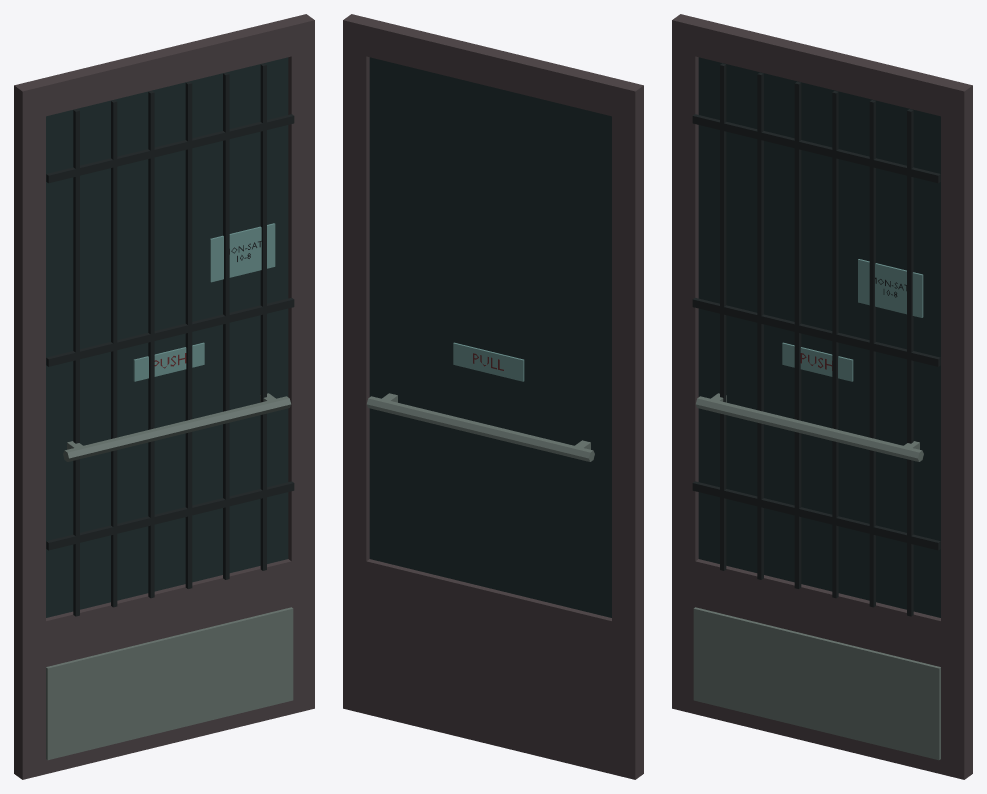
Rendered from usa_amanet.glb.
3 renders of one model, left to right at view 1: azimuth 30°, elevation 25°; view 2: azimuth 150°, elevation 25°; view 3: azimuth 330°, elevation 25°, orthographic.
Visible parts, largest first — view 1: Usa, GeamUsa; view 2: GeamUsa, Usa; view 3: Usa, GeamUsa.
Part boxes in pixels (x1,y1,x2,y2): Usa: (14, 14, 314, 779); GeamUsa: (46, 57, 288, 617); GeamUsa: (369, 57, 611, 617); Usa: (343, 14, 643, 779); Usa: (672, 14, 972, 779); GeamUsa: (698, 57, 940, 617).
Size of the model in its own units: 1 by 2.25 by 0.186.
